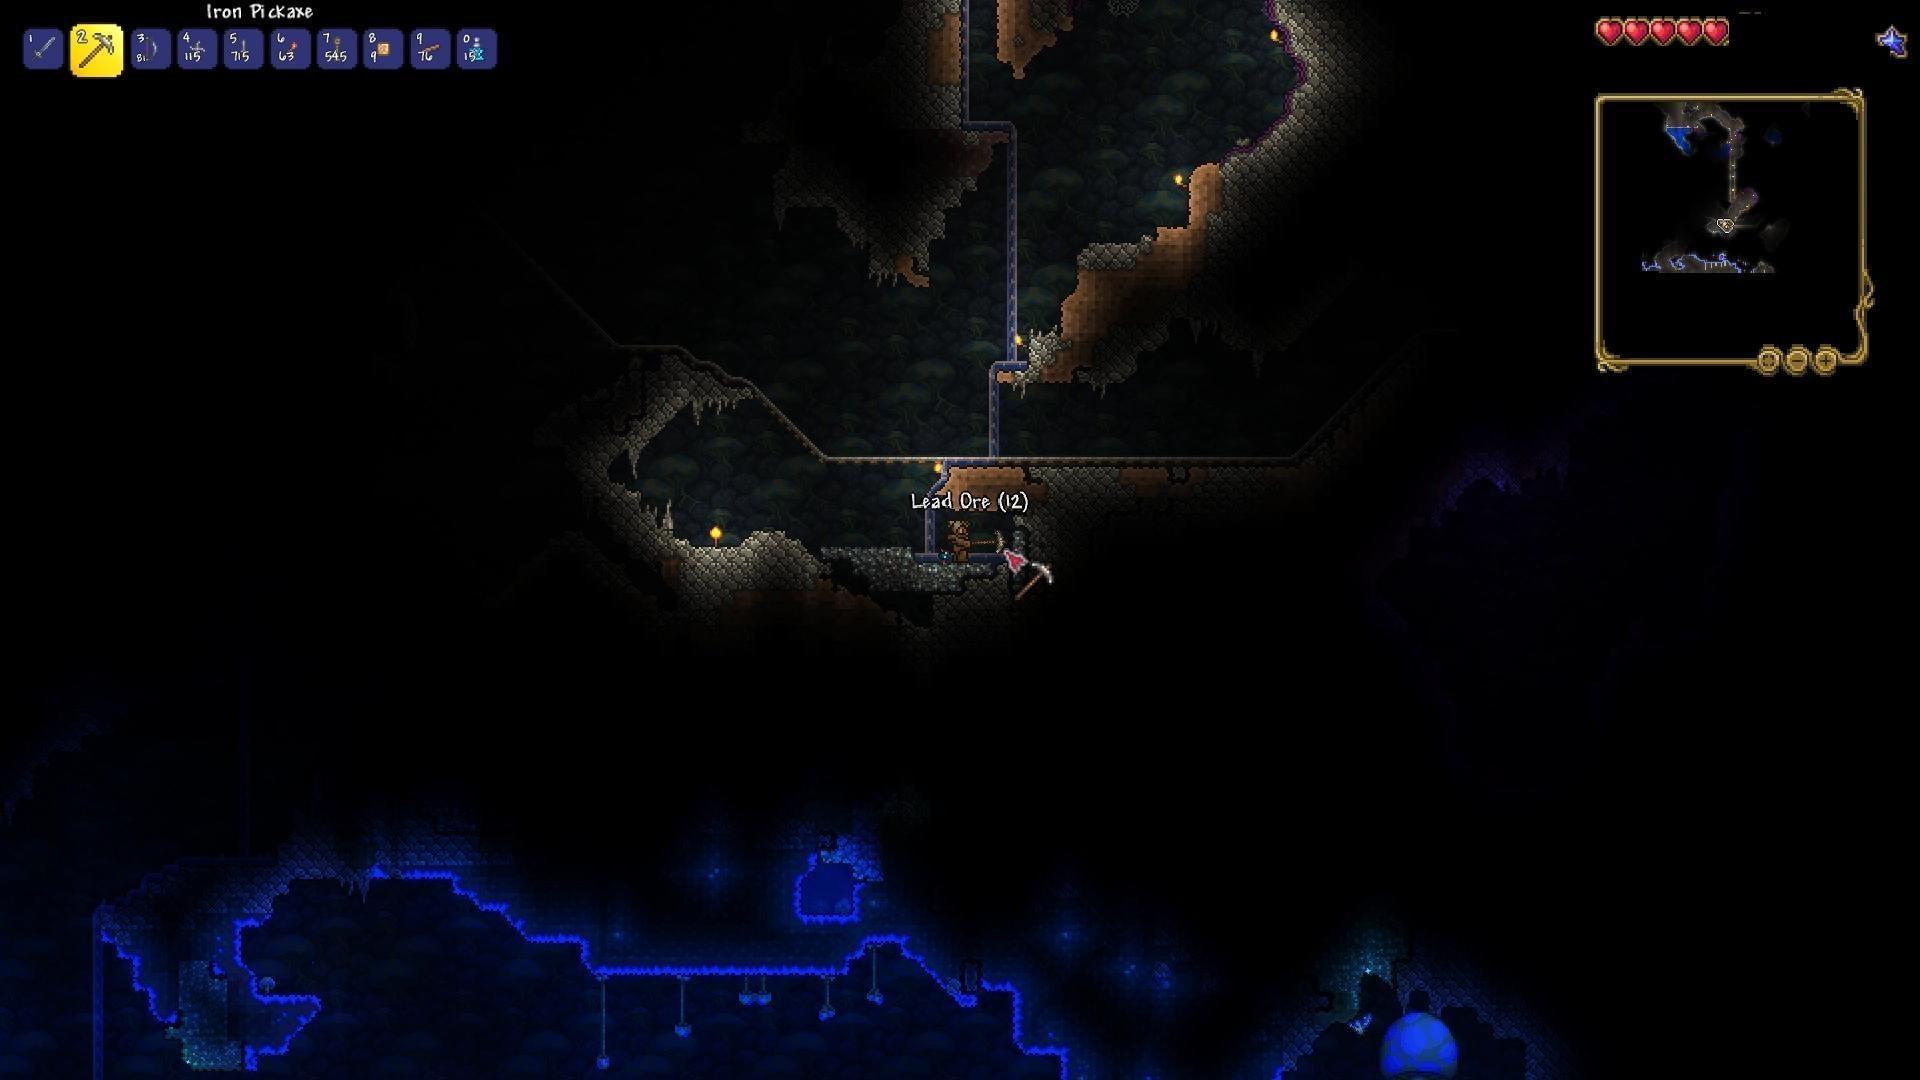heart: (1702, 17, 1733, 51), (1593, 16, 1626, 46), (1676, 15, 1704, 50), (1650, 16, 1676, 49), (1625, 15, 1651, 44)
stone: (1217, 5, 1335, 214), (657, 501, 810, 618), (804, 185, 947, 273), (620, 360, 745, 438), (1034, 467, 1129, 534), (938, 564, 1015, 638), (1069, 229, 1149, 273)
